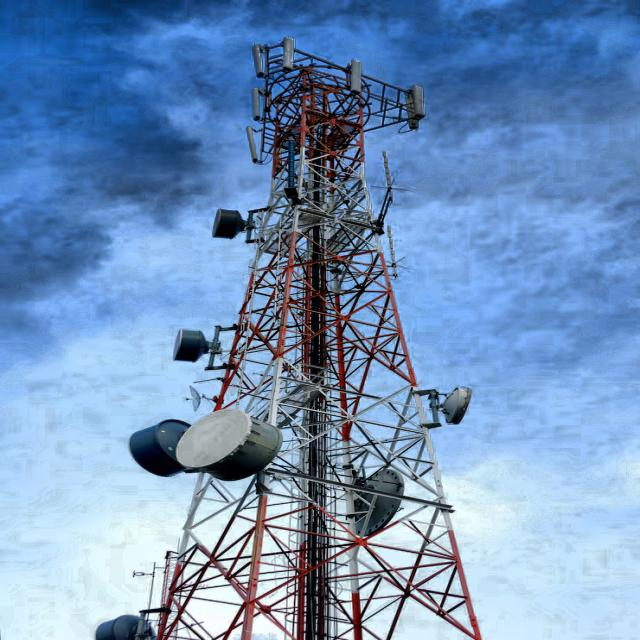antenna: (407, 85, 424, 119), (246, 126, 258, 163), (252, 44, 265, 77), (349, 59, 361, 92), (282, 36, 294, 69), (251, 87, 262, 120)
